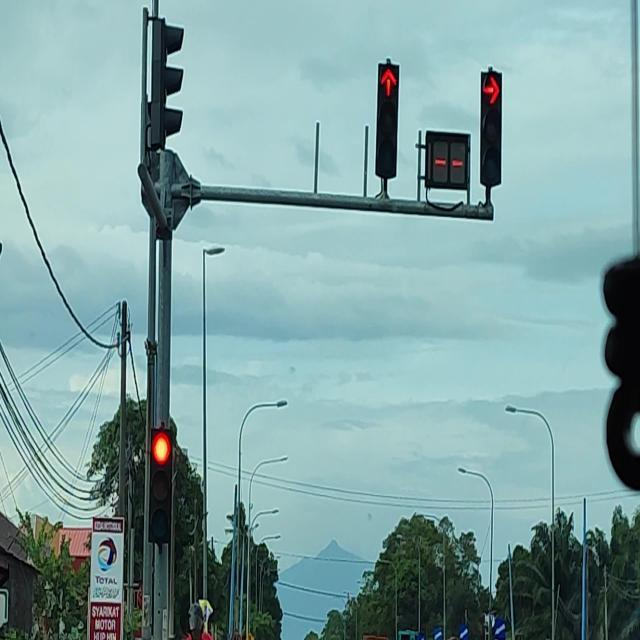red_light: (374, 62, 400, 178), (147, 430, 172, 542), (479, 70, 502, 186)
